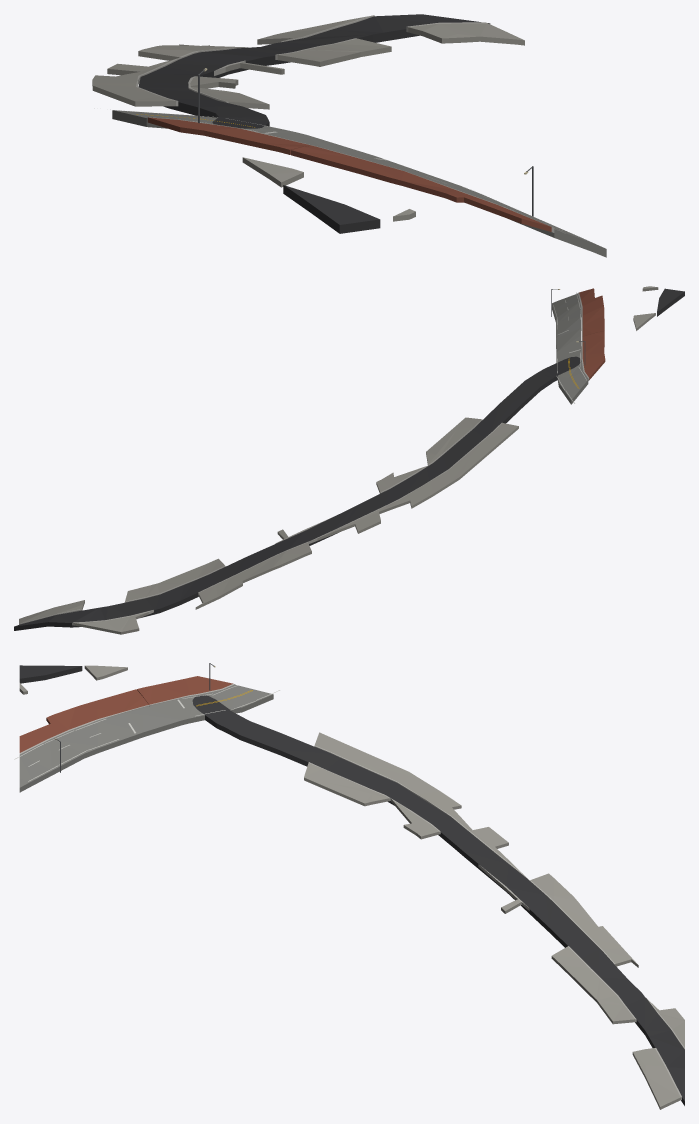
3 views of the same model, one above another, from view 1: azimuth 30°, elevation 25°; view 2: azimuth 150°, elevation 25°; view 3: azimuth 270°, elevation 25° (orthographic). The views are drawn at different scales.
Bounding box in the file's own units: 109 × 59.98 × 147.
